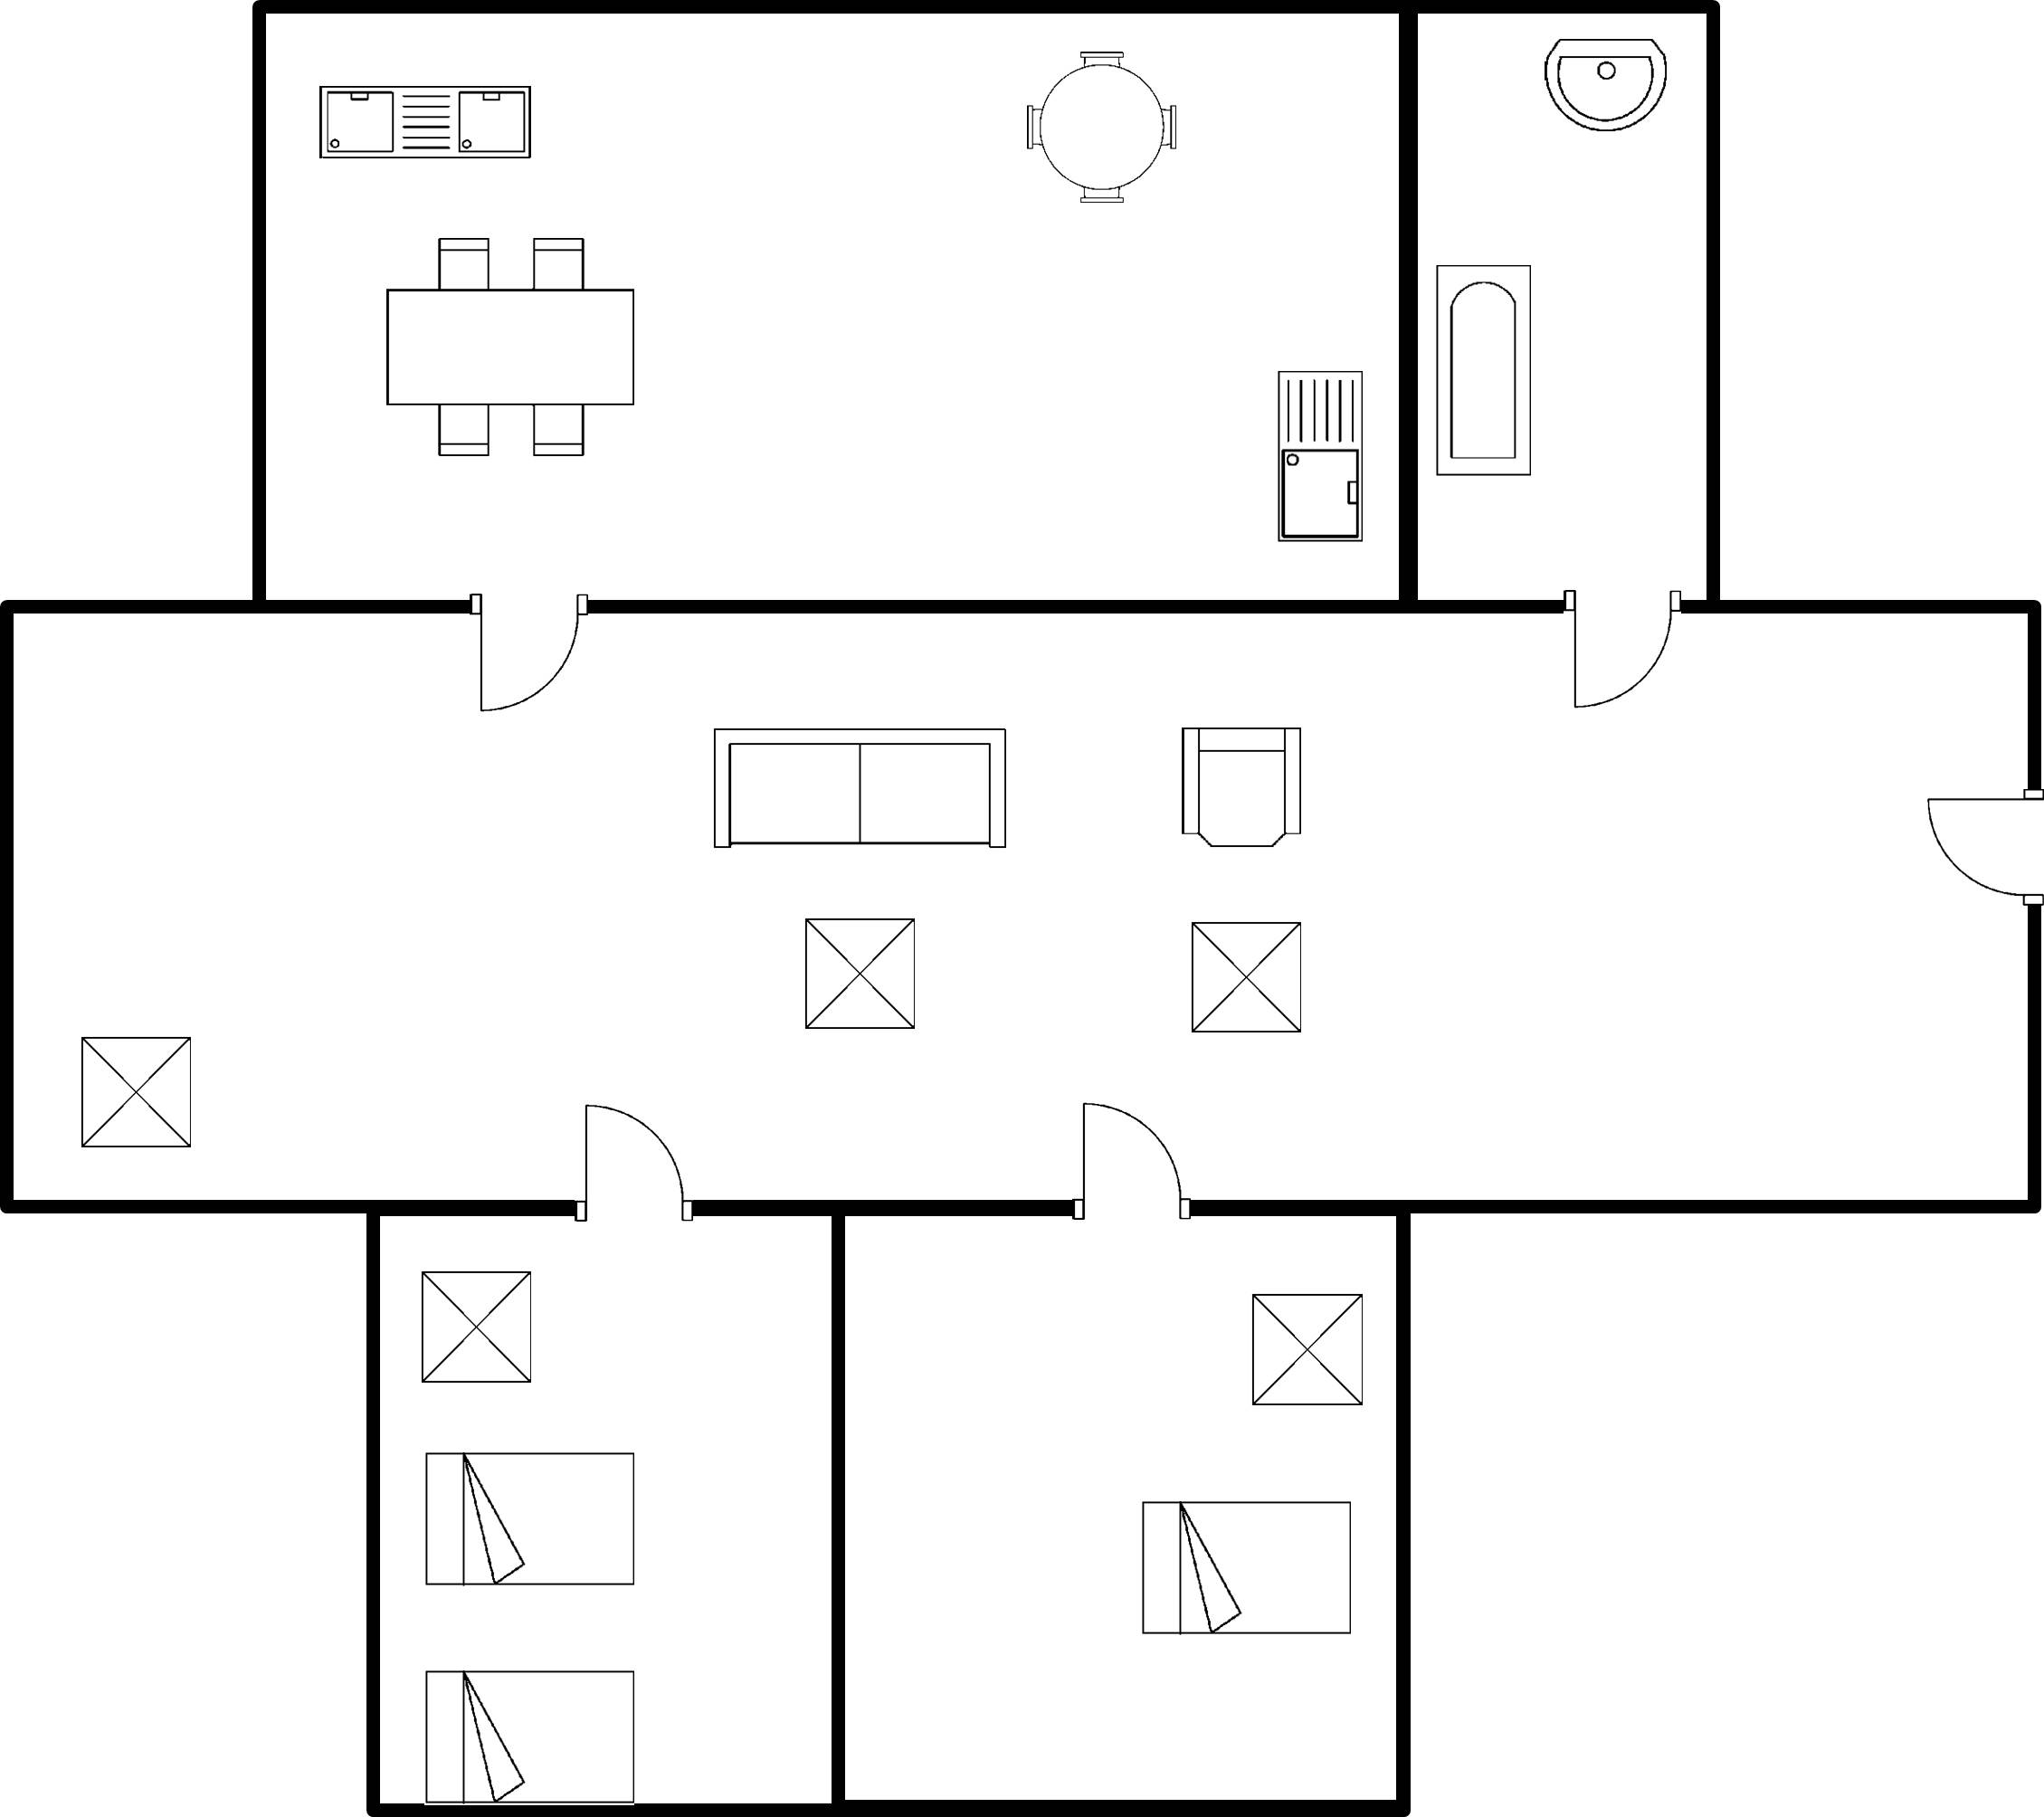armchair: (1161, 713, 1312, 861)
bed: (1122, 1489, 1365, 1650), (414, 1442, 653, 1599), (409, 1651, 645, 1812)
coffee_table: (1177, 907, 1321, 1049), (1229, 1281, 1373, 1419), (785, 910, 930, 1043), (407, 1258, 546, 1394), (66, 1029, 206, 1164)
dining_table: (370, 227, 647, 470)
large_sofa: (698, 711, 1026, 864)
round_table: (1007, 37, 1193, 218)
sink: (1264, 360, 1373, 557)
small_sink: (1523, 28, 1679, 142)
tub: (1423, 252, 1550, 495)
twin_sink: (306, 74, 546, 174)
